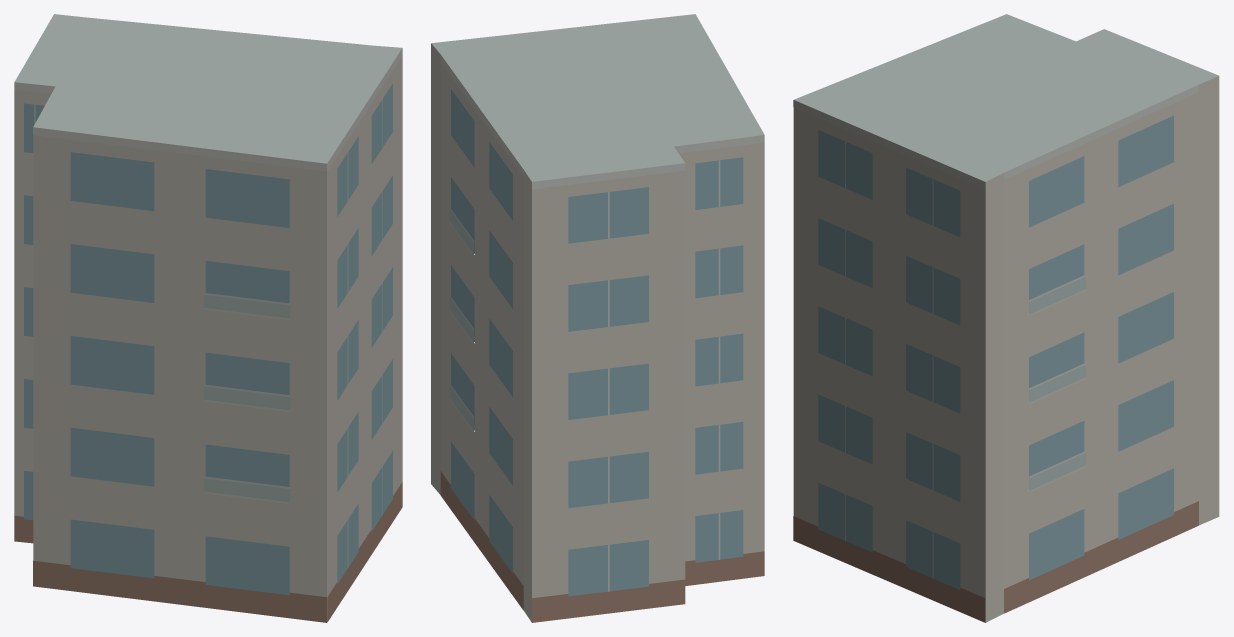
The model's file is survey-upis-32846223.glb.
The picture shows the model from 3 angles, left to right: view 1: azimuth 30°, elevation 25°; view 2: azimuth 150°, elevation 25°; view 3: azimuth 270°, elevation 25°; orthographic projection. The views are drawn at different scales.
Visible parts, largest first — view 1: survey-upis-32846223.tmp; view 2: survey-upis-32846223.tmp; view 3: survey-upis-32846223.tmp.
Boxes of the visible parts, bbox=[...] form: survey-upis-32846223.tmp: bbox=[14, 14, 402, 622]; survey-upis-32846223.tmp: bbox=[431, 14, 764, 622]; survey-upis-32846223.tmp: bbox=[793, 14, 1219, 622].
Size of the model in its own units: 11.77 by 14.4 by 12.61.
